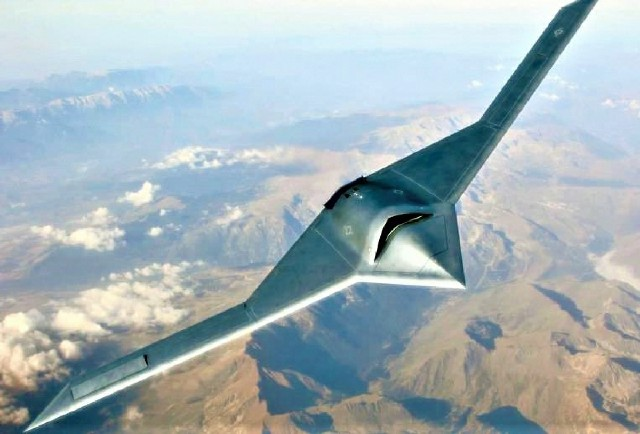maybay_khongnguoilai: (24, 1, 594, 434)
